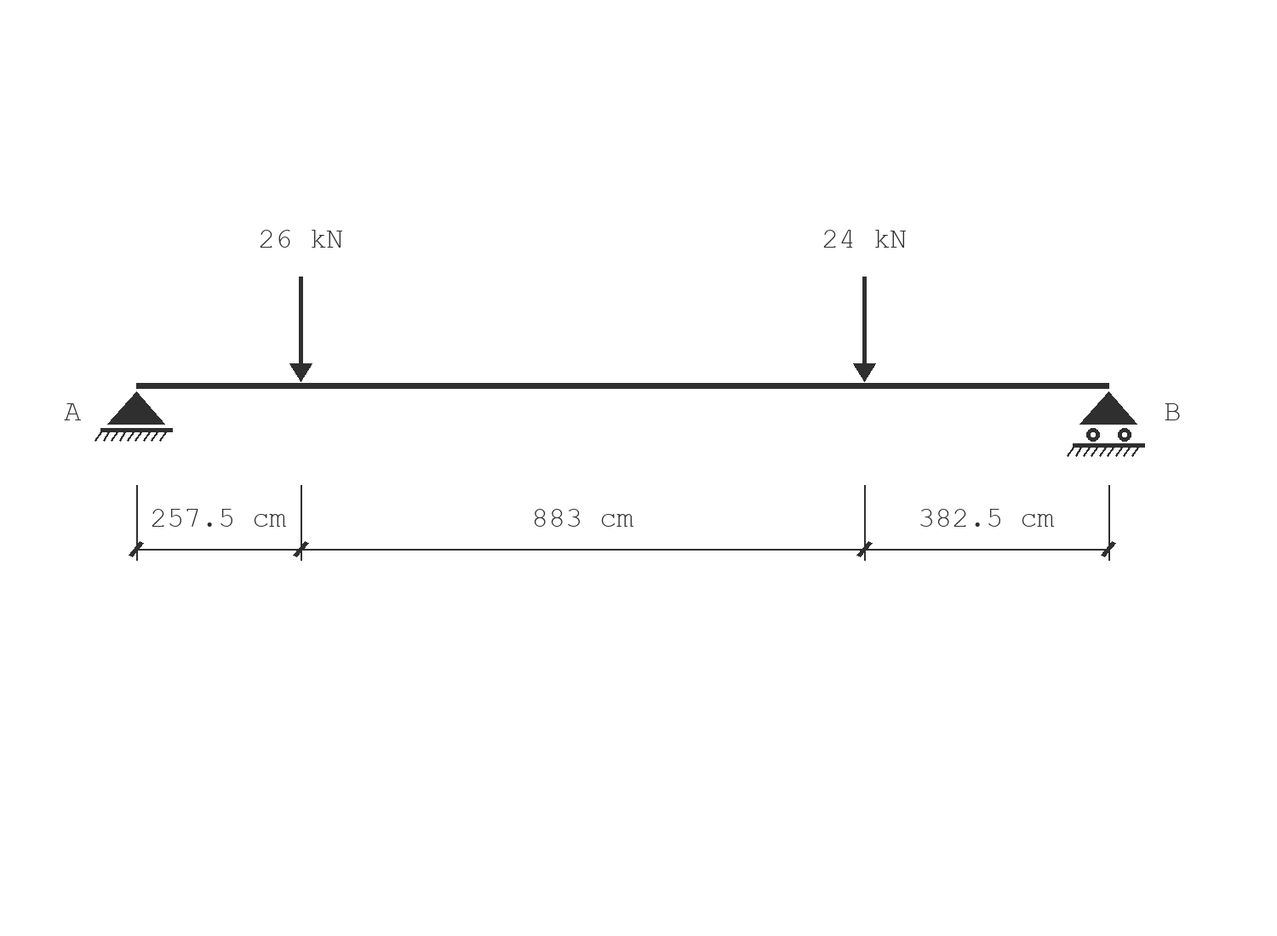pin_support: (94, 391, 173, 442)
point_load: (289, 277, 312, 382), (853, 277, 876, 382)
roller_support: (1067, 391, 1145, 457)
